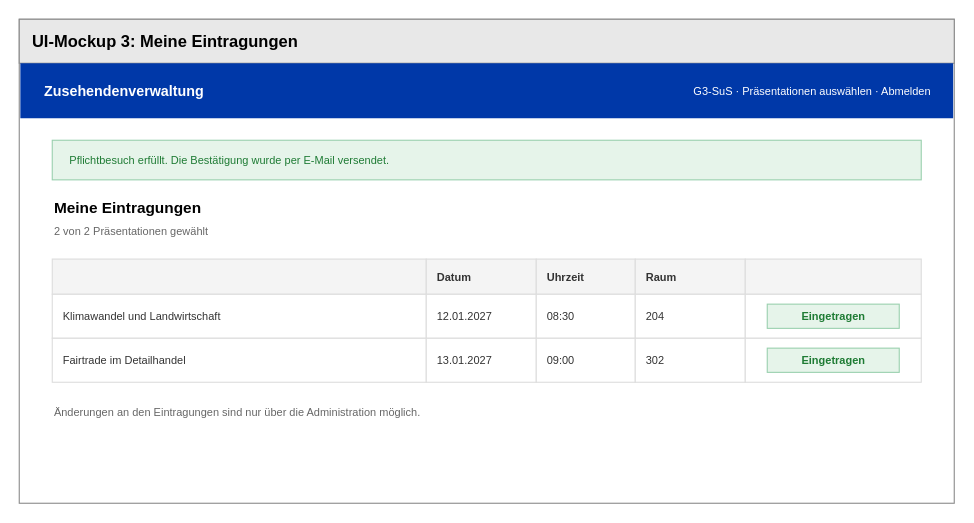
Some shapes in this 974 by 523 pixel diagram are drawn without their labels. The centre of each missing label's shape, as x and y in pixels:
"Status" goes at point 832,276.
"Thema" goes at point 238,276.
